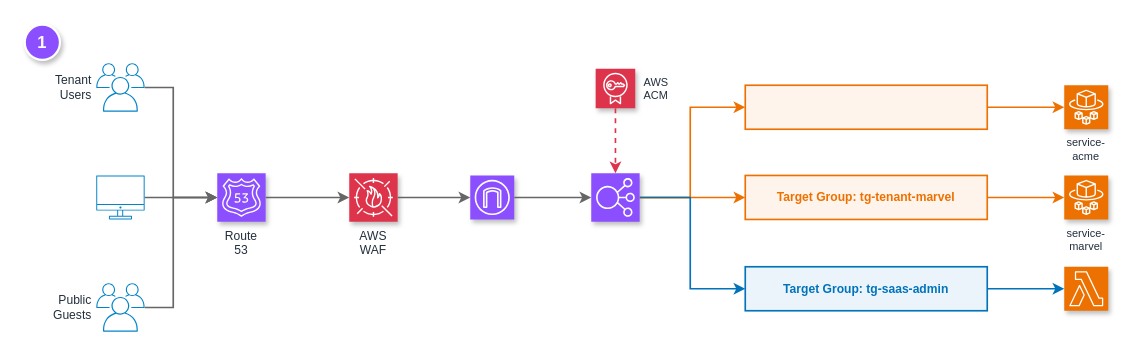
Image size: 1134x363. Some labels were removed from this diagram. Here are the shapes that lost their labels. From the top down, the centre of each, then its label:
point 866,107: Target Group: tg-tenant-acme
point 120,197: WebDAV / Desktop
point 493,198: Internet Gateway
point 616,198: Dual-AZ ALB
point 1087,289: service-operator
